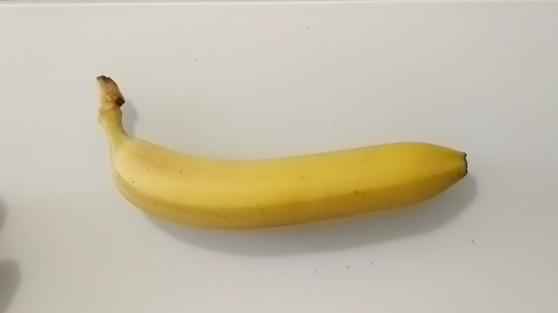banana: (100, 74, 474, 228)
